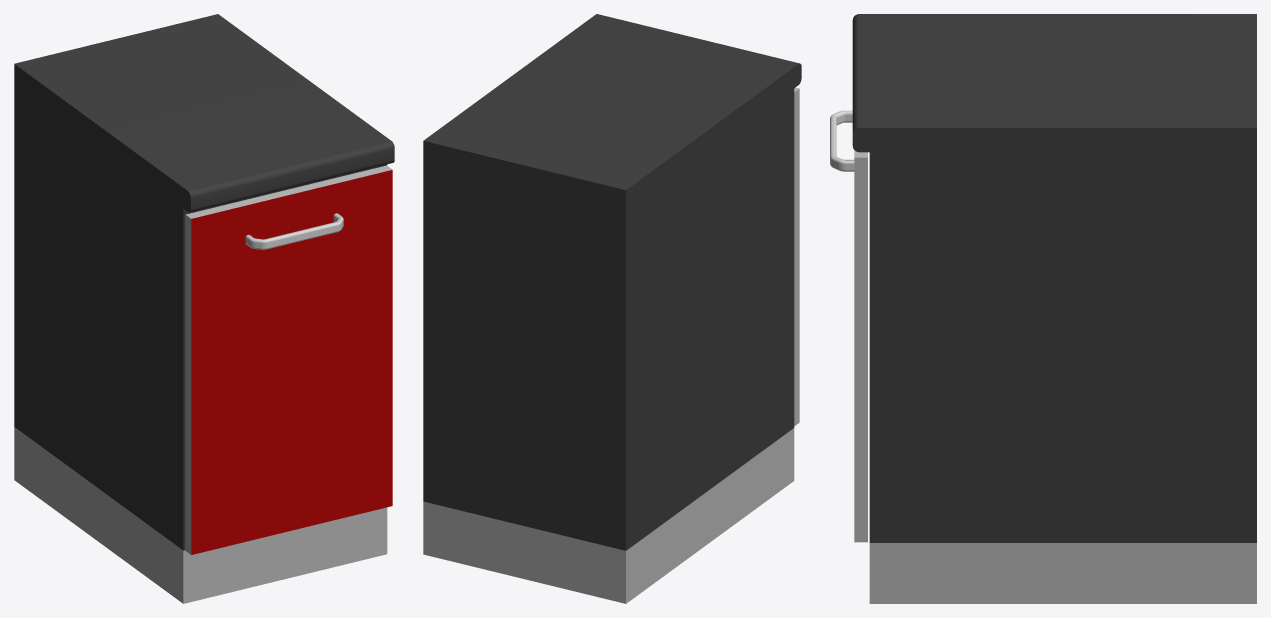
Rendered from singolo.obj.
3 views of the same model, side by side, from view 1: azimuth 30°, elevation 25°; view 2: azimuth 150°, elevation 25°; view 3: azimuth 270°, elevation 25° (orthographic). The views are drawn at different scales.
Visible parts, largest first — view 1: Box052_4, Box03_6, Line03_2, Box02_7, Box053_5, Box05_3, Loft01_1; view 2: Box03_6, Line03_2, Box02_7, Box053_5; view 3: Box03_6, Line03_2, Box02_7, Box053_5, Loft01_1.
Part boxes in pixels (x1,y1,x2,y2): Box052_4: (191, 170, 392, 554); Box03_6: (14, 85, 387, 550); Line03_2: (14, 14, 394, 212); Box02_7: (14, 427, 387, 603); Box053_5: (185, 215, 191, 554); Box05_3: (186, 165, 392, 218); Loft01_1: (245, 213, 343, 249); Box03_6: (423, 88, 794, 550); Line03_2: (423, 14, 801, 211); Box02_7: (423, 428, 794, 603); Box053_5: (794, 89, 799, 426); Box03_6: (869, 152, 1256, 542); Line03_2: (852, 14, 1256, 152); Box02_7: (869, 543, 1256, 603); Box053_5: (854, 157, 867, 542); Loft01_1: (830, 110, 854, 171).
Size of the model in its own units: 40 by 78 by 63.38.
